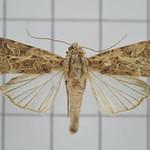Spodoptera litura: (1, 28, 150, 135)
